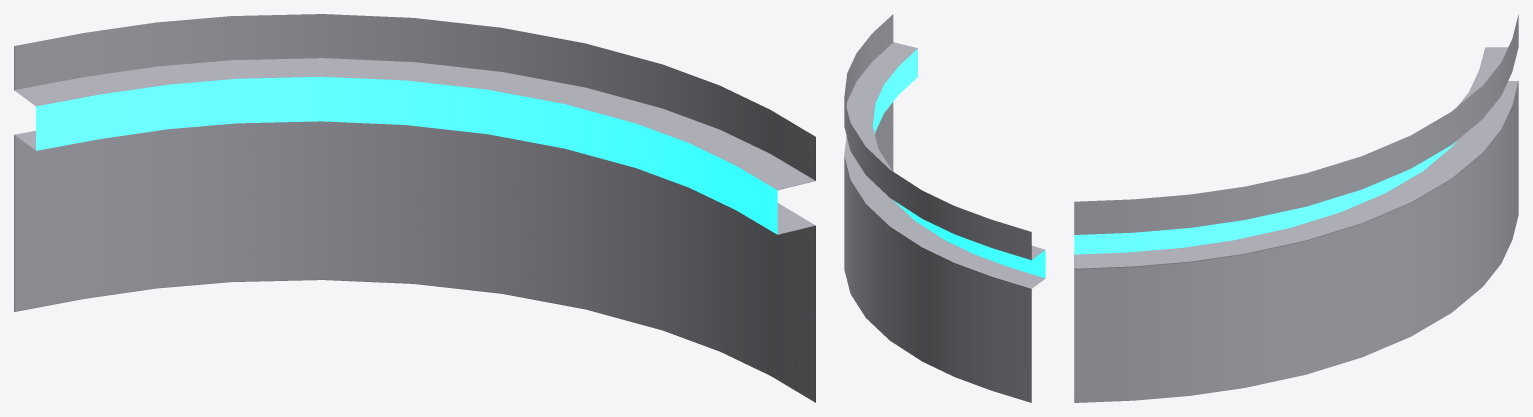
The model's file is Column_01_Top.FBX.
3 renders of one model, left to right at view 1: azimuth 30°, elevation 25°; view 2: azimuth 150°, elevation 25°; view 3: azimuth 270°, elevation 25°, orthographic. The views are drawn at different scales.
Parts seen in each view (by area): view 1: Column_01_Top; view 2: Column_01_Top; view 3: Column_01_Top.
Boxes of the visible parts, box(x1,y1,x2,y2) form: Column_01_Top: box(14, 14, 815, 402); Column_01_Top: box(844, 14, 1045, 402); Column_01_Top: box(1074, 14, 1518, 402).
Size of the model in its own units: 1.5 by 0.75 by 1.5.
Materials: 2 (1 with a texture image).
